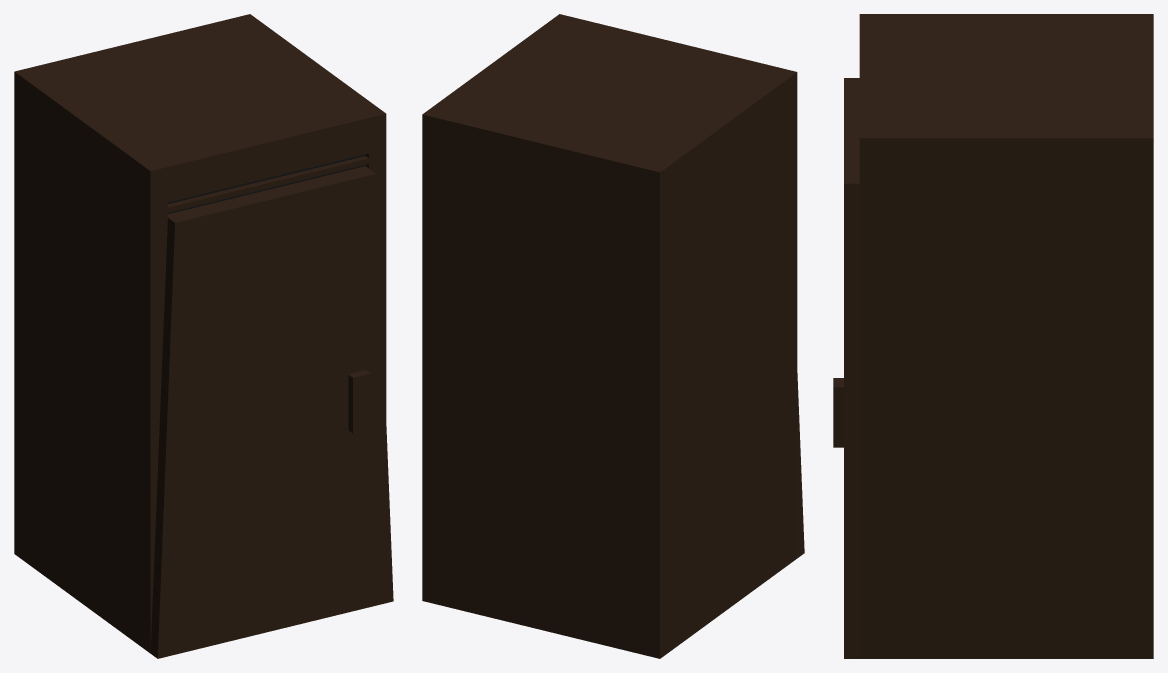
The model's file is hidingObject.fbx.
3 views of the same model, side by side, from view 1: azimuth 30°, elevation 25°; view 2: azimuth 150°, elevation 25°; view 3: azimuth 270°, elevation 25° (orthographic). The views are drawn at different scales.
Parts seen in each view (by area): view 1: Cube; view 2: Cube; view 3: Cube.
Boxes of the visible parts, bbox=[...] form: Cube: bbox=[14, 14, 393, 658]; Cube: bbox=[422, 14, 804, 658]; Cube: bbox=[833, 14, 1153, 658].
Bounding box in the file's own units: 200 × 391 × 218.
